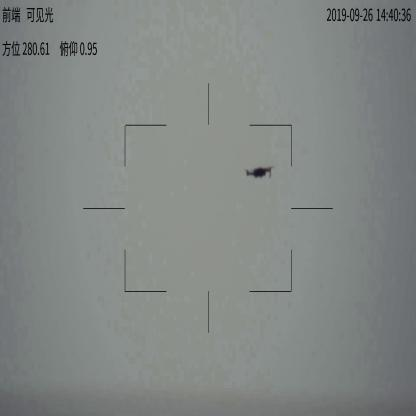uav: (244, 165, 278, 182)
